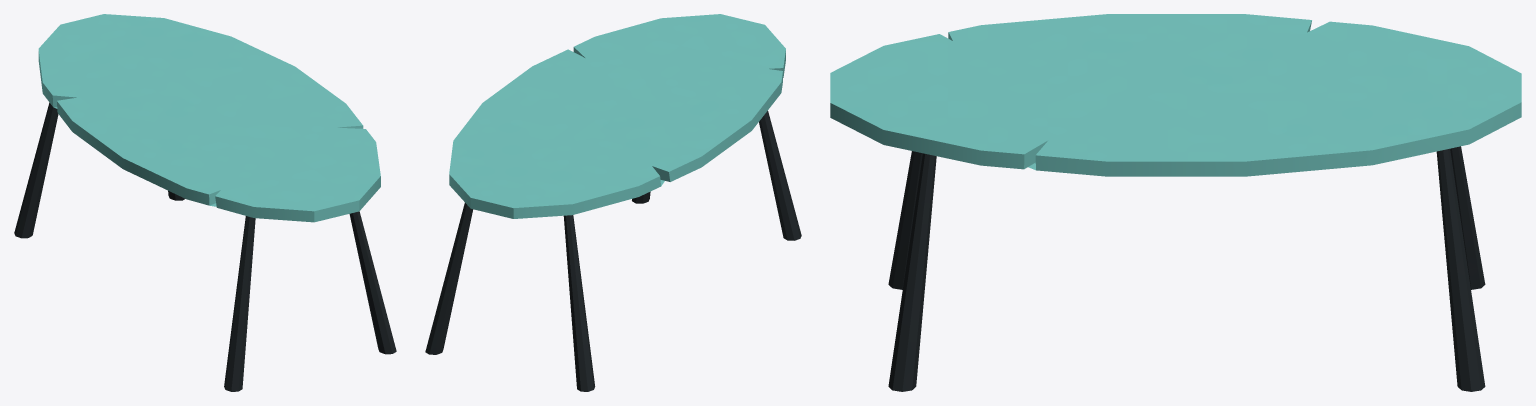
Rendered from Table_03_04_Damaged.fbx.
3 renders of one model, left to right at view 1: azimuth 30°, elevation 25°; view 2: azimuth 150°, elevation 25°; view 3: azimuth 270°, elevation 25°, orthographic. The views are drawn at different scales.
Visible parts, largest first — view 1: Table_03_04_Damaged; view 2: Table_03_04_Damaged; view 3: Table_03_04_Damaged.
Boxes of the visible parts, x1=… form: Table_03_04_Damaged: x1=14, y1=14, x2=396, y2=391; Table_03_04_Damaged: x1=425, y1=14, x2=801, y2=391; Table_03_04_Damaged: x1=830, y1=14, x2=1521, y2=391.
Bounding box in the file's own units: 1.07 × 0.8341 × 2.11.
